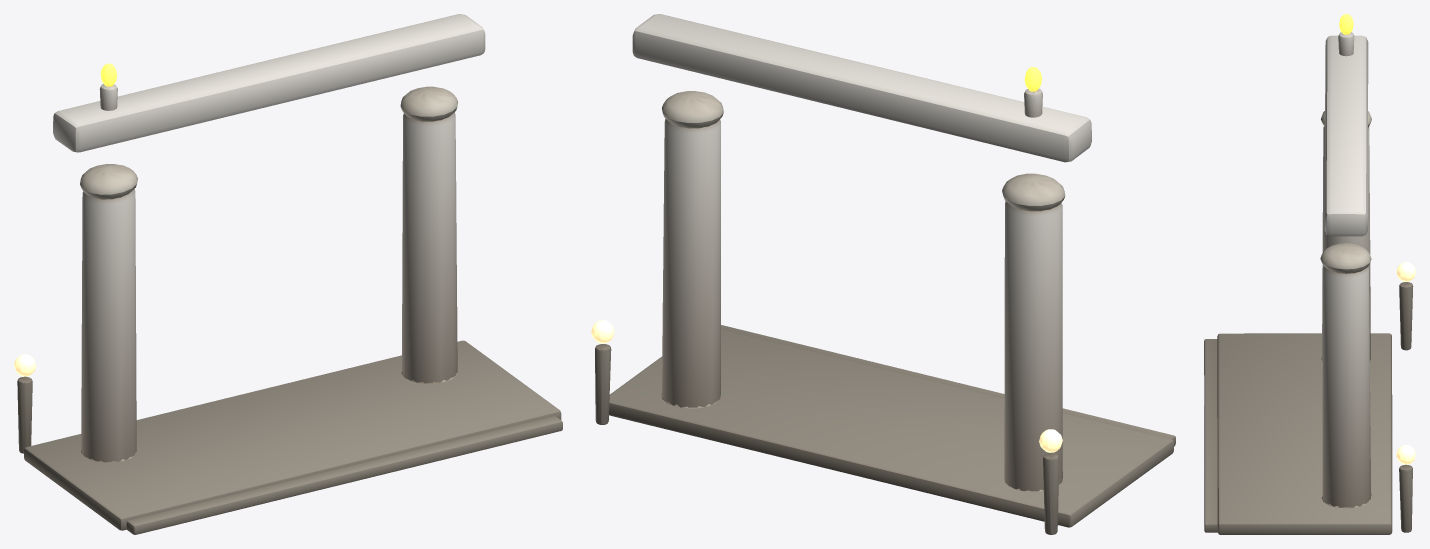
3 views of the same model, side by side, from view 1: azimuth 30°, elevation 25°; view 2: azimuth 150°, elevation 25°; view 3: azimuth 270°, elevation 25° (orthographic). The views are drawn at different scales.
Parts seen in each view (by area): view 1: gate_519b51fa; view 2: gate_519b51fa; view 3: gate_519b51fa.
Boxes of the visible parts, x1,y1,x2,y2 form: gate_519b51fa: (14, 14, 562, 534); gate_519b51fa: (591, 14, 1175, 534); gate_519b51fa: (1204, 14, 1415, 534).
Size of the model in its own units: 5.47 by 4.74 by 2.55.
